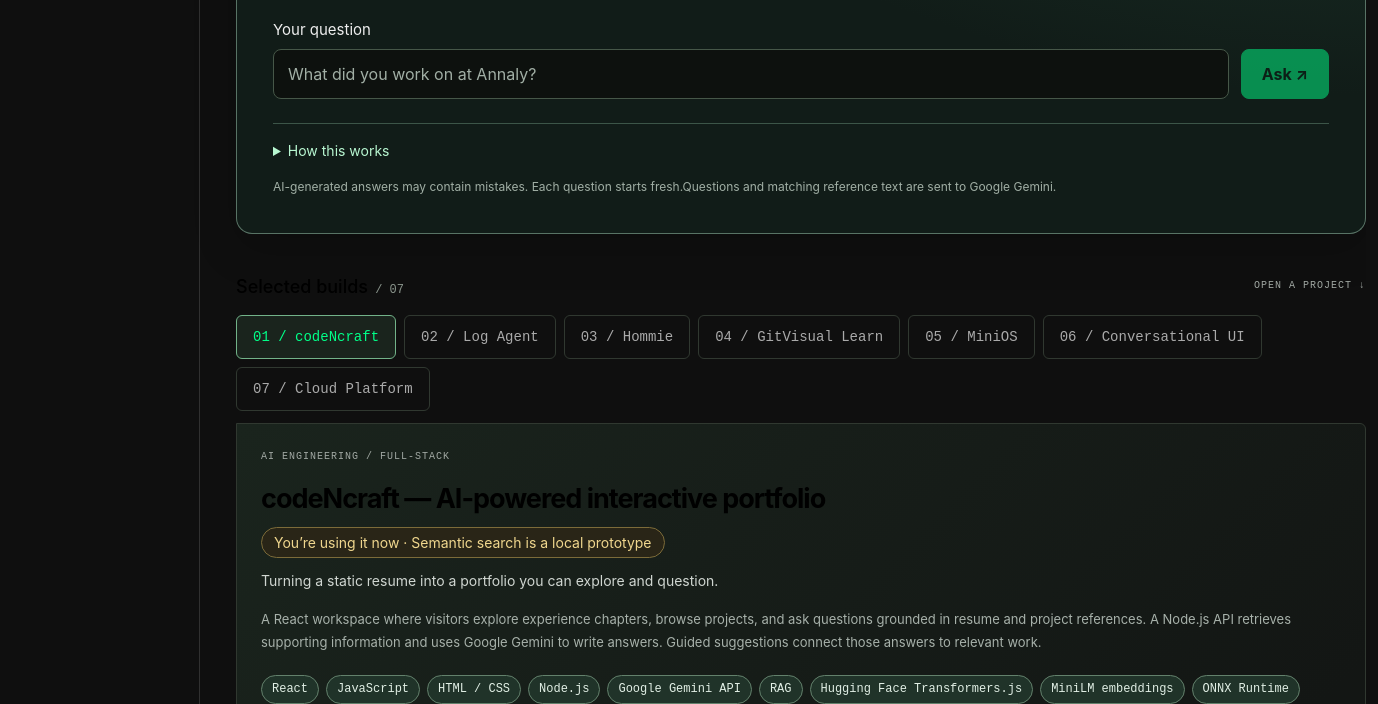
Scenario: opens 04 / GitVisual Learn without GitHub links
(page scrolled)
Click the button "04 / GitVisual Learn" at (799, 337), box [698,315,900,359]
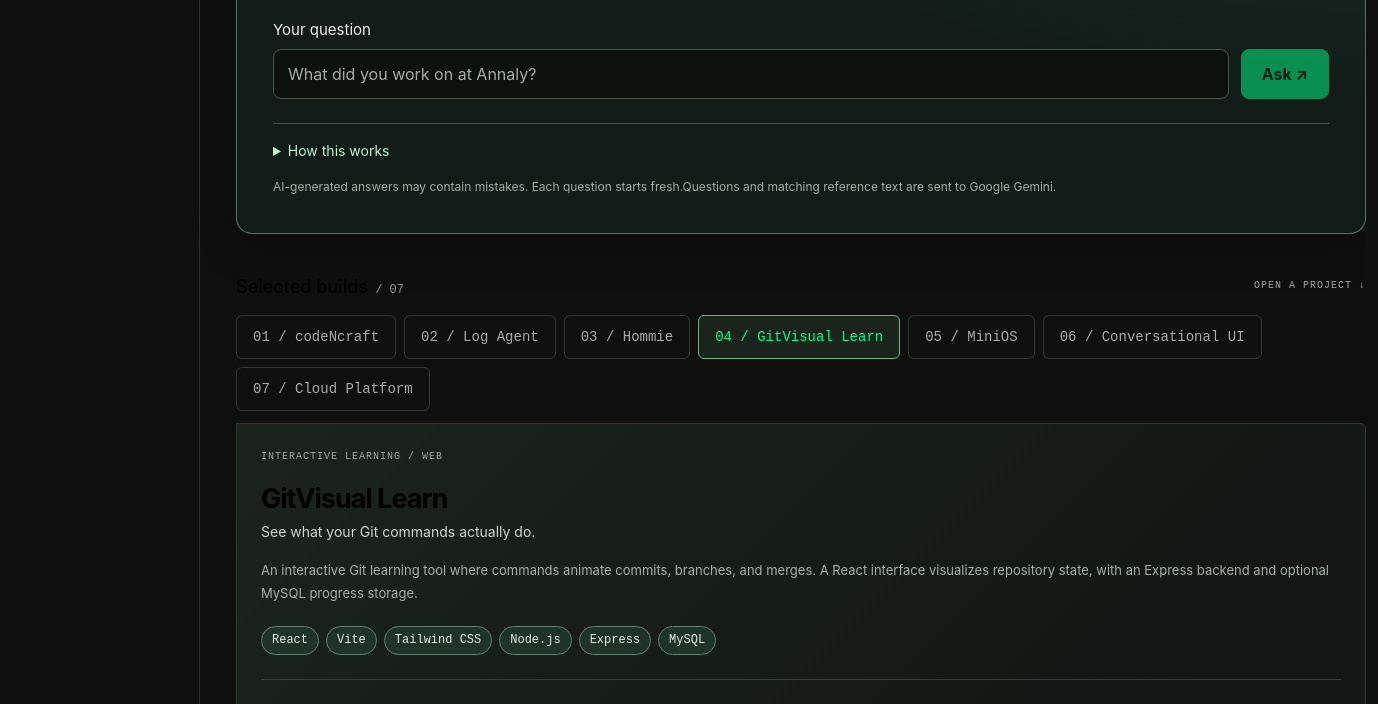
expect the heading "GitVisual Learn" is shown: met, box [261,482,447,515]
